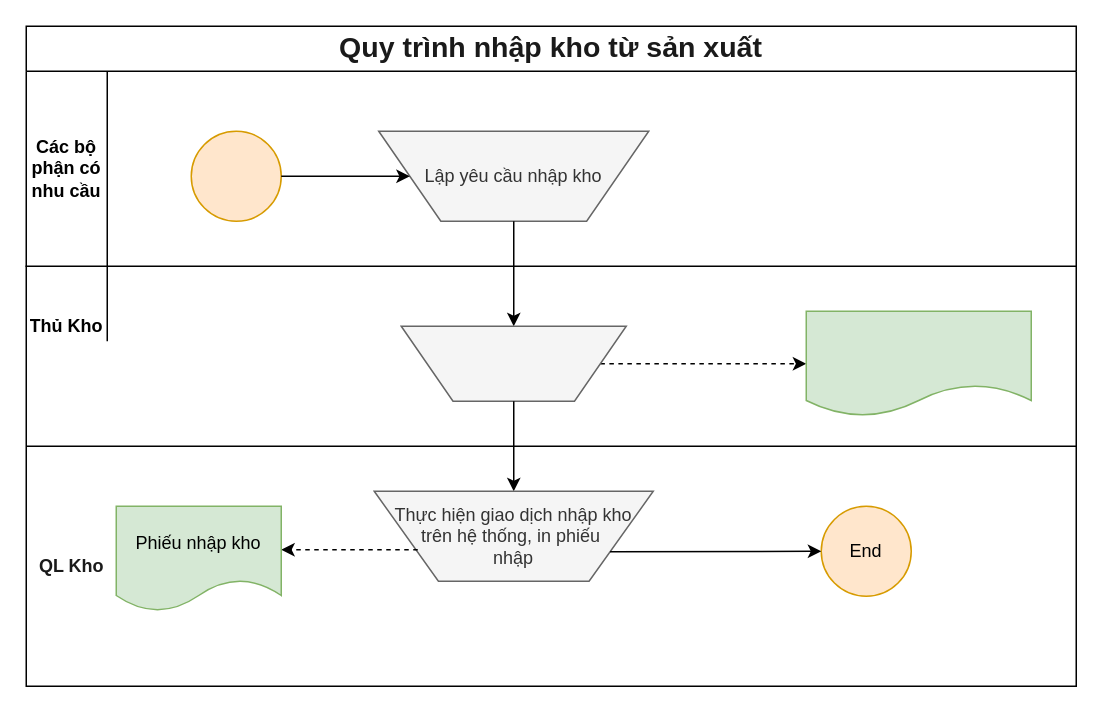
The diagram is 1104 pixels wide and 713 high, and some of its shapes have lost their labels. Here are the shapes that lost their labels. From the top down, the centre of each, then its label:
At (235,175): "Begin".
At (513,363): "Kiểm hàng và nhập kho".
At (918,363): "Phiếu giao nhận".
